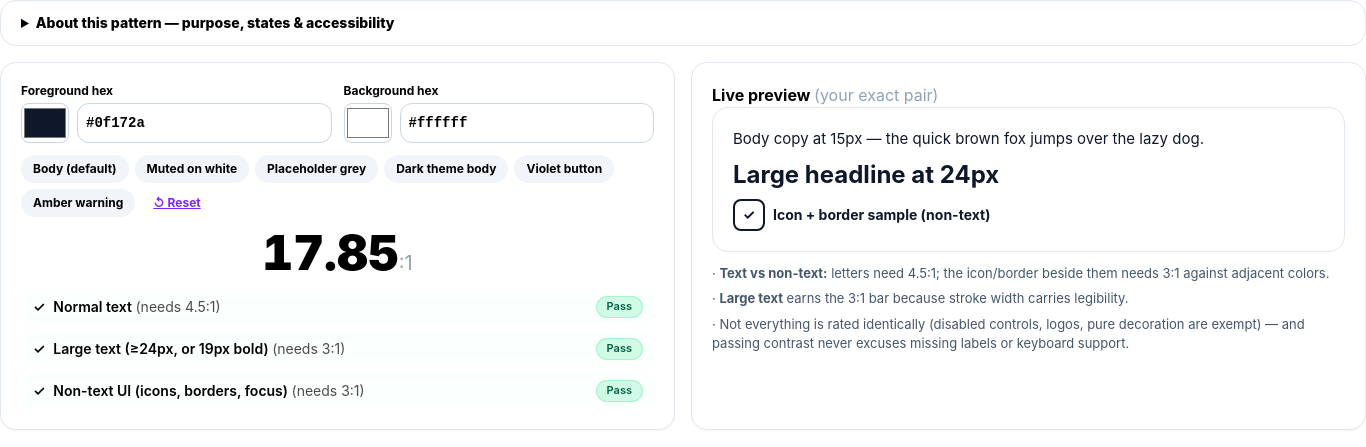
Test case: contrast math › rejects bad input with named errors and recomputes on presets
This screenshot has width=1366, height=447.
Expected: the text "17.85" is shown, [262,223,399,282]
Step 1. Type "zzz" into the field named "Foreground hex value" → (204, 123), box [77,103,332,143]
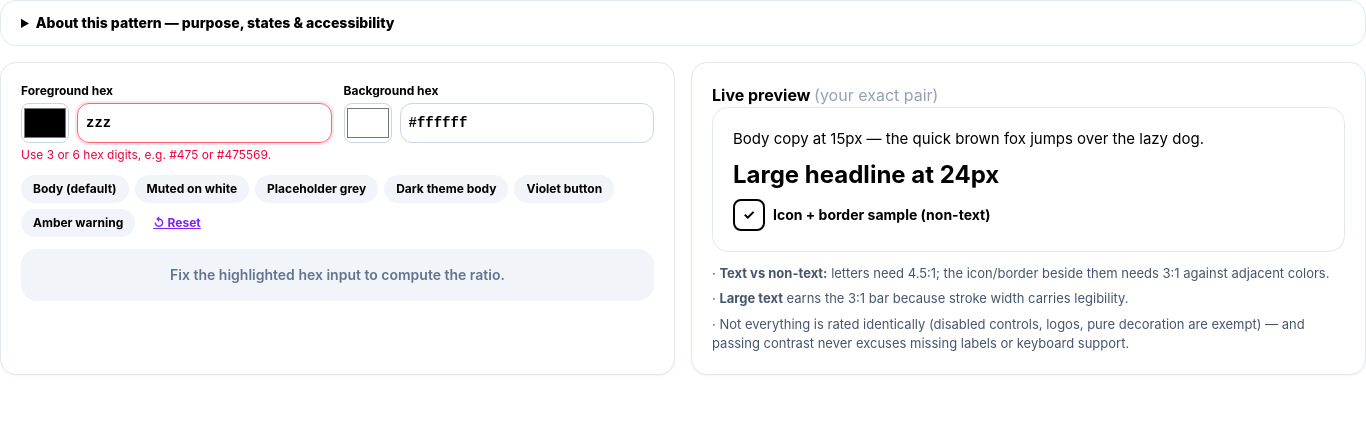
Now the text "Use 3 or 6 hex digits, e.g. #475 or #475569." is shown, box [21,147,271,162]
Now the text "Fix the highlighted hex input to compute the ratio." is shown, box [21,249,654,301]
Step 2. Click the button "Placeholder grey" → (317, 189), box [255,175,378,203]
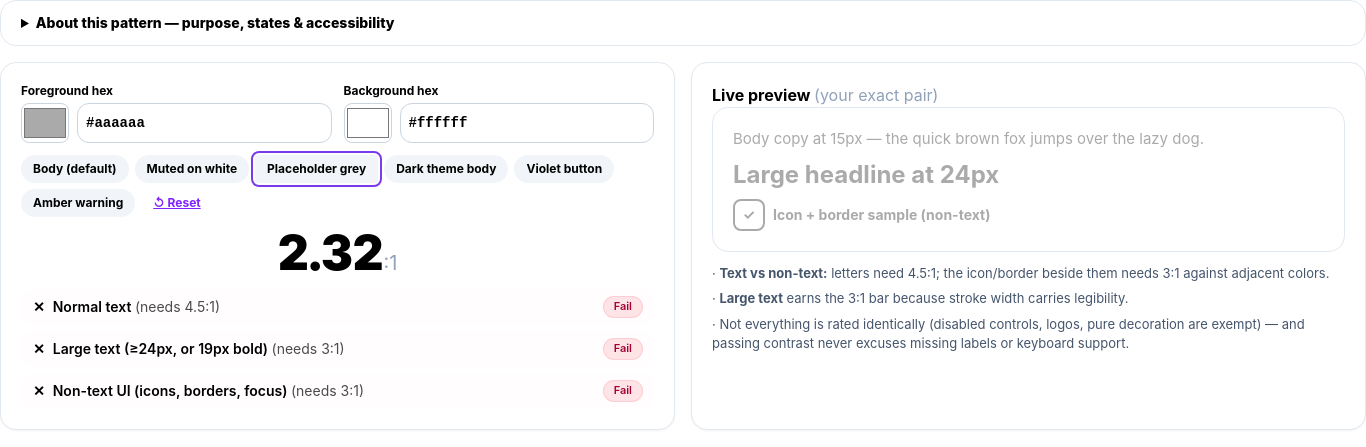
Now the text "2.32" is shown, box [278,223,383,282]
Now the text "Fail" in the row of "Normal text" is shown, box [614,299,632,313]
